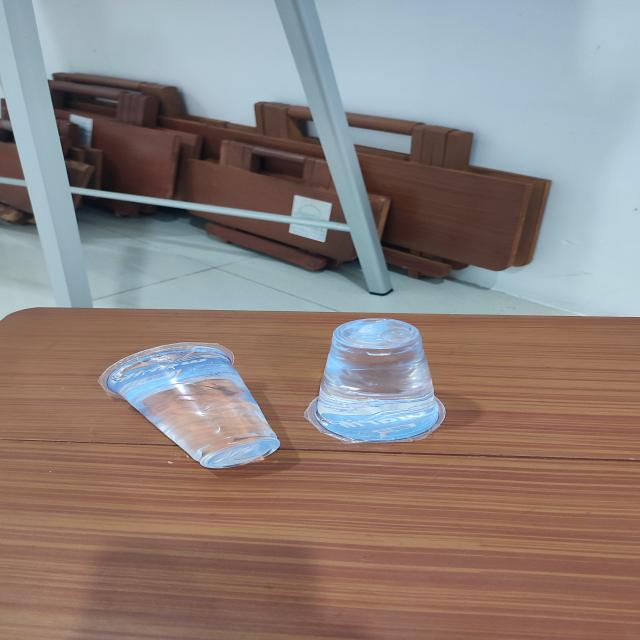air gelas: (95, 337, 285, 476), (302, 310, 452, 452)
